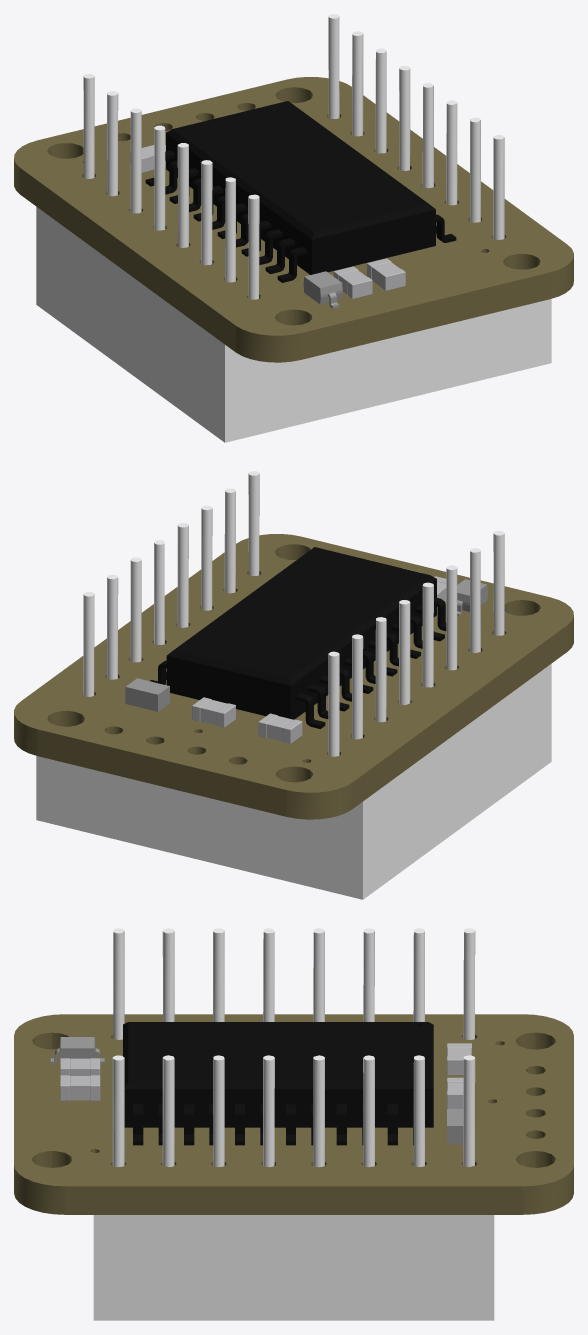
Rendered from ada-870.glb.
The picture shows the model from 3 angles, top to bottom: view 1: azimuth 30°, elevation 25°; view 2: azimuth 150°, elevation 25°; view 3: azimuth 270°, elevation 25°; orthographic projection. The views are drawn at different scales.
Parts seen in each view (by area): view 1: 1_1_1_0.85, 0.16666666666666666_0.16666666666666666_0.08333333333333333_, 0_0_0_0, 0.5833333333333334_0.5833333333333334_0.5833333333333334_0.8, 0.3333333333333333_0.3333333333333333_0.3333333333333333_0; view 2: 1_1_1_0.85, 0.16666666666666666_0.16666666666666666_0.08333333333333333_, 0_0_0_0, 0.5833333333333334_0.5833333333333334_0.5833333333333334_0.8, 0.3333333333333333_0.3333333333333333_0.3333333333333333_0; view 3: 0.16666666666666666_0.16666666666666666_0.08333333333333333_, 1_1_1_0.85, 0_0_0_0, 0.5833333333333334_0.5833333333333334_0.5833333333333334_0.8, 0.3333333333333333_0.3333333333333333_0.3333333333333333_0.
Part boxes in pixels (bbox=[...]): 1_1_1_0.85: bbox=[36, 14, 551, 442]; 0.16666666666666666_0.16666666666666666_0.08333333333333333_: bbox=[14, 77, 573, 362]; 0_0_0_0: bbox=[145, 101, 456, 282]; 0.5833333333333334_0.5833333333333334_0.5833333333333334_0.8: bbox=[130, 145, 405, 298]; 0.3333333333333333_0.3333333333333333_0.3333333333333333_0: bbox=[303, 271, 342, 308]; 1_1_1_0.85: bbox=[36, 471, 551, 899]; 0.16666666666666666_0.16666666666666666_0.08333333333333333_: bbox=[14, 534, 573, 819]; 0_0_0_0: bbox=[150, 547, 446, 728]; 0.5833333333333334_0.5833333333333334_0.5833333333333334_0.8: bbox=[192, 568, 446, 743]; 0.3333333333333333_0.3333333333333333_0.3333333333333333_0: bbox=[125, 579, 487, 711]; 0.16666666666666666_0.16666666666666666_0.08333333333333333_: bbox=[14, 1014, 573, 1214]; 1_1_1_0.85: bbox=[93, 928, 494, 1320]; 0_0_0_0: bbox=[123, 1022, 433, 1145]; 0.5833333333333334_0.5833333333333334_0.5833333333333334_0.8: bbox=[60, 1043, 471, 1108]; 0.3333333333333333_0.3333333333333333_0.3333333333333333_0: bbox=[50, 1037, 463, 1144].
Size of the model in its own units: 2.03 by 1.33 by 2.79.
